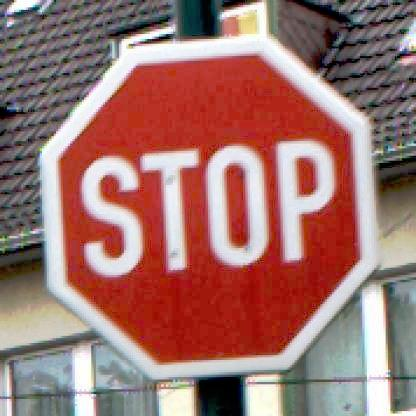Stop Sign: (35, 32, 382, 382)
